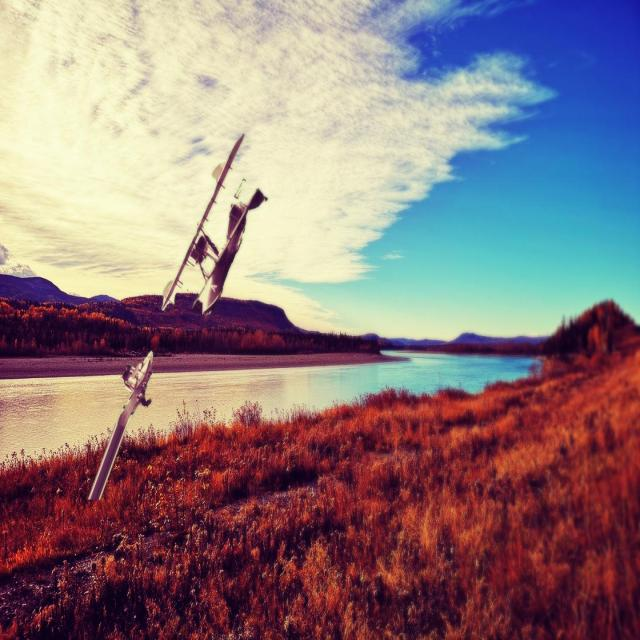airplane: (160, 132, 268, 316), (87, 350, 154, 501)
